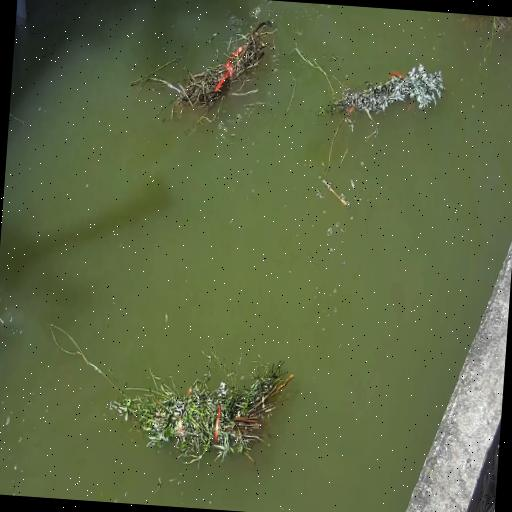twig: (106, 340, 300, 473), (155, 12, 281, 130), (320, 42, 456, 142)
